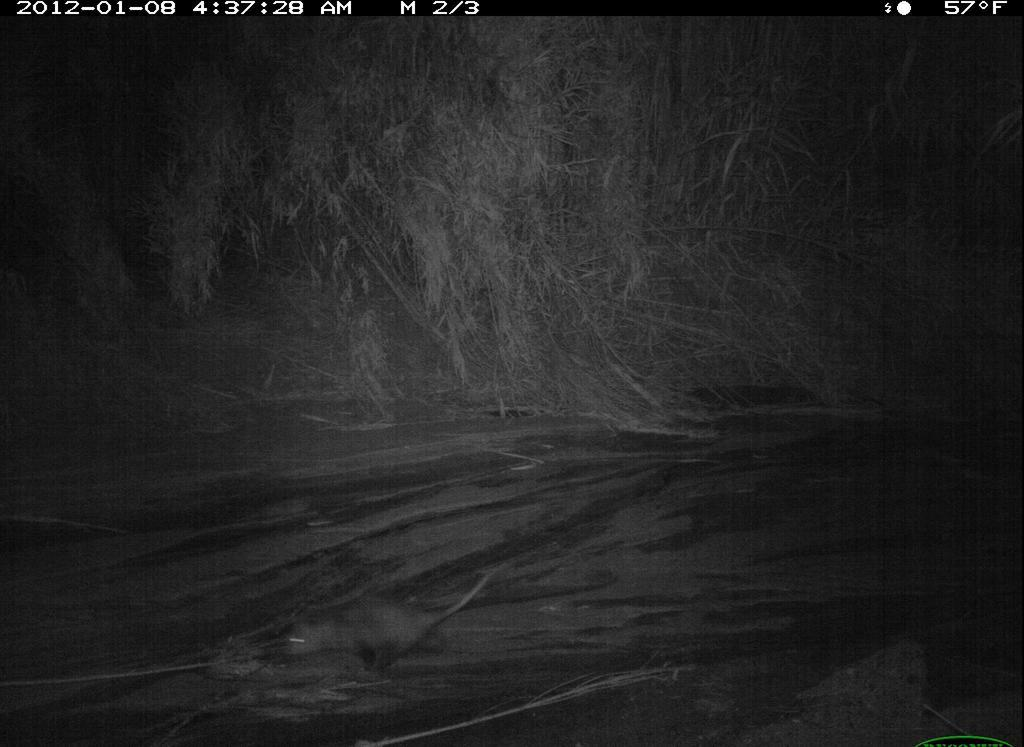opossum: (278, 557, 530, 689)
